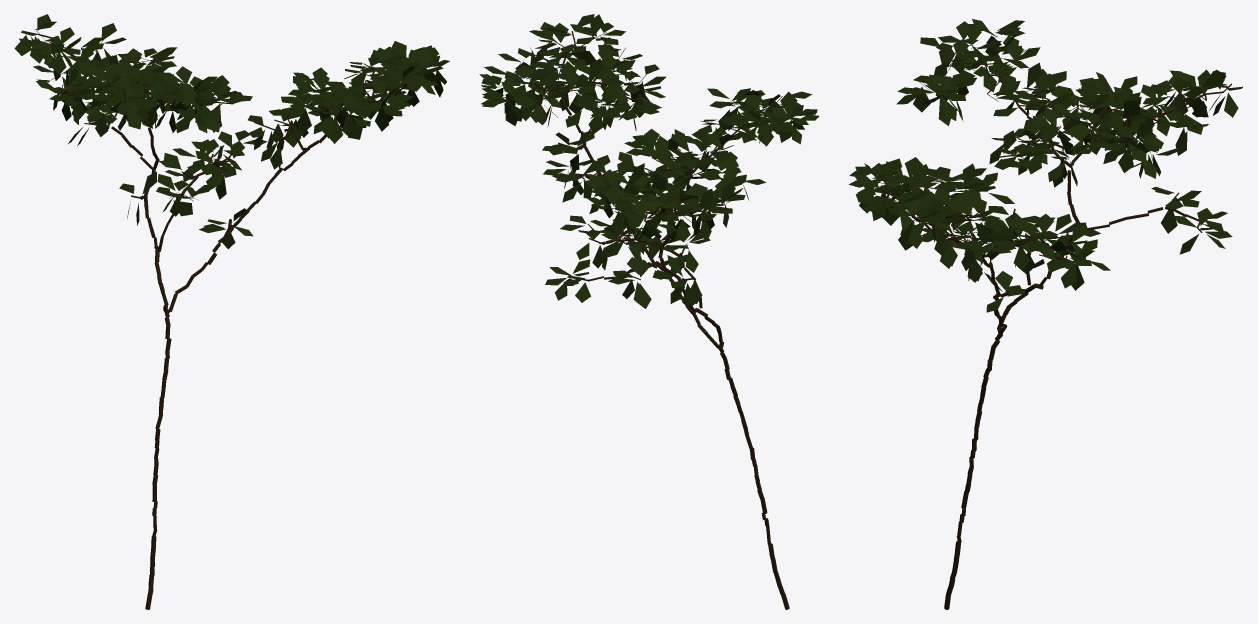
File: tree_458.obj
The picture shows the model from 3 angles, left to right: view 1: azimuth 30°, elevation 25°; view 2: azimuth 150°, elevation 25°; view 3: azimuth 270°, elevation 25°; orthographic projection. The views are drawn at different scales.
Visible parts, largest first — view 1: Leaves, TrunkAndBranches; view 2: Leaves, TrunkAndBranches; view 3: Leaves, TrunkAndBranches.
Boxes of the visible parts, left/top/right/bottom form: Leaves: left=14, top=14, right=449, bottom=249; TrunkAndBranches: left=38, top=34, right=429, bottom=609; Leaves: left=479, top=14, right=819, bottom=308; TrunkAndBranches: left=498, top=31, right=789, bottom=609; Leaves: left=849, top=19, right=1242, bottom=312; TrunkAndBranches: left=875, top=36, right=1231, bottom=609.
Bounding box in the file's own units: 4.16 × 6.31 × 3.85.
